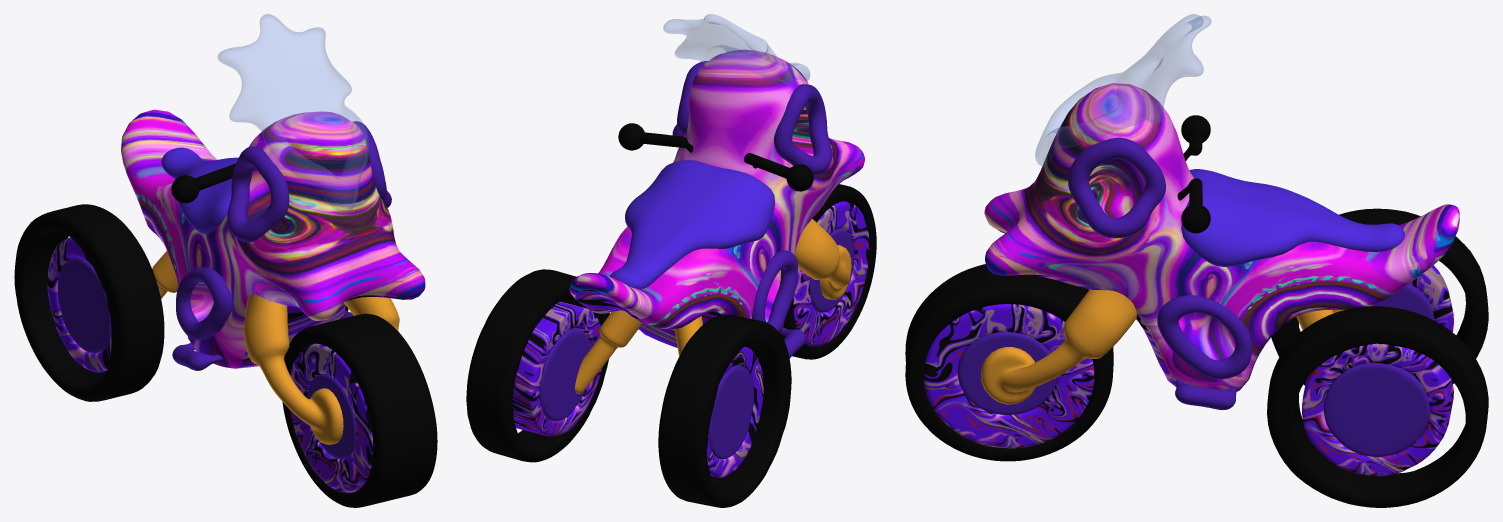
Rendered from phettabike.glb.
The picture shows the model from 3 angles, left to right: view 1: azimuth 30°, elevation 25°; view 2: azimuth 150°, elevation 25°; view 3: azimuth 270°, elevation 25°; orthographic projection. The views are drawn at different scales.
Visible parts, largest first — view 1: Retopo_geom.020, Retopo_geom.017, Retopo_geom.015, Retopo_geom.013, Retopo_geom.016, Retopo_geom.012, Retopo_geom.008, Retopo_geom.009, Retopo_geom.019, Retopo_geom.007, Retopo_geom.010, Retopo_geom.011 (+3 smaller); view 2: Retopo_geom.020, Retopo_geom.017, Retopo_geom.019, Retopo_geom.010, Retopo_geom.009, Retopo_geom.013, Retopo_geom.012, Retopo_geom.008, Retopo_geom.016, Retopo_geom.015, Retopo_geom.018, Retopo_geom.014 (+3 smaller); view 3: Retopo_geom.020, Retopo_geom.017, Retopo_geom.012, Retopo_geom.015, Retopo_geom.019, Retopo_geom.010, Retopo_geom.009, Retopo_geom.013, Retopo_geom.016, Retopo_geom.008, Retopo_geom.007, Retopo_geom.011 (+2 smaller).
Part boxes in pixels (left/top/right/bottom): Retopo_geom.020: left=121, top=109, right=425, bottom=368; Retopo_geom.017: left=14, top=204, right=348, bottom=401; Retopo_geom.015: left=282, top=313, right=437, bottom=507; Retopo_geom.013: left=218, top=14, right=368, bottom=213; Retopo_geom.016: left=243, top=294, right=399, bottom=444; Retopo_geom.012: left=290, top=343, right=373, bottom=492; Retopo_geom.008: left=227, top=121, right=391, bottom=242; Retopo_geom.009: left=57, top=256, right=111, bottom=353; Retopo_geom.019: left=161, top=147, right=238, bottom=234; Retopo_geom.007: left=176, top=267, right=232, bottom=340; Retopo_geom.010: left=47, top=237, right=111, bottom=372; Retopo_geom.011: left=307, top=373, right=356, bottom=459; Retopo_geom.020: left=569, top=49, right=864, bottom=347; Retopo_geom.017: left=466, top=269, right=791, bottom=507; Retopo_geom.019: left=610, top=160, right=774, bottom=288; Retopo_geom.010: left=512, top=301, right=763, bottom=477; Retopo_geom.009: left=539, top=328, right=754, bottom=458; Retopo_geom.013: left=663, top=14, right=809, bottom=84; Retopo_geom.012: left=793, top=201, right=869, bottom=346; Retopo_geom.008: left=672, top=61, right=832, bottom=175; Retopo_geom.016: left=794, top=219, right=851, bottom=299; Retopo_geom.015: left=780, top=184, right=876, bottom=359; Retopo_geom.018: left=574, top=310, right=702, bottom=393; Retopo_geom.014: left=618, top=123, right=813, bottom=191; Retopo_geom.020: left=984, top=83, right=1459, bottom=391; Retopo_geom.017: left=1267, top=208, right=1488, bottom=507; Retopo_geom.012: left=924, top=304, right=1094, bottom=448; Retopo_geom.015: left=905, top=264, right=1113, bottom=461; Retopo_geom.019: left=1181, top=169, right=1404, bottom=266; Retopo_geom.010: left=1302, top=265, right=1453, bottom=476; Retopo_geom.009: left=1323, top=283, right=1434, bottom=457; Retopo_geom.013: left=1035, top=14, right=1211, bottom=166; Retopo_geom.016: left=981, top=289, right=1137, bottom=404; Retopo_geom.008: left=1068, top=137, right=1165, bottom=238; Retopo_geom.007: left=1157, top=295, right=1252, bottom=379; Retopo_geom.011: left=957, top=332, right=1056, bottom=414.
Size of the model in its own units: 0.7316 by 1.18 by 1.44.
Materials: 7 (2 with a texture image).
